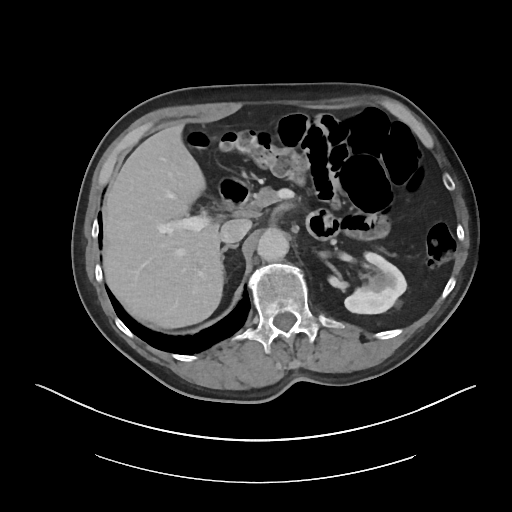Lesion: (367, 270, 387, 295)
